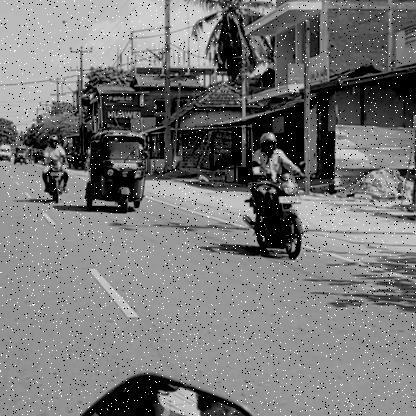motorcycle: (227, 168, 295, 256)
